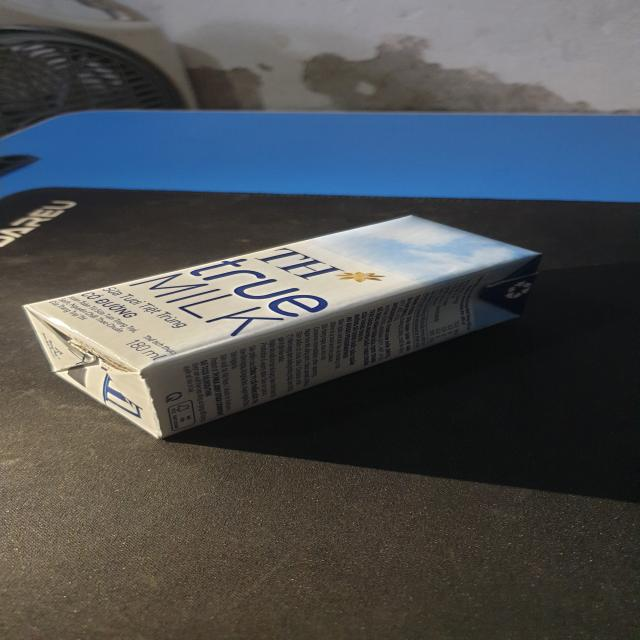TH: (21, 214, 540, 439)
